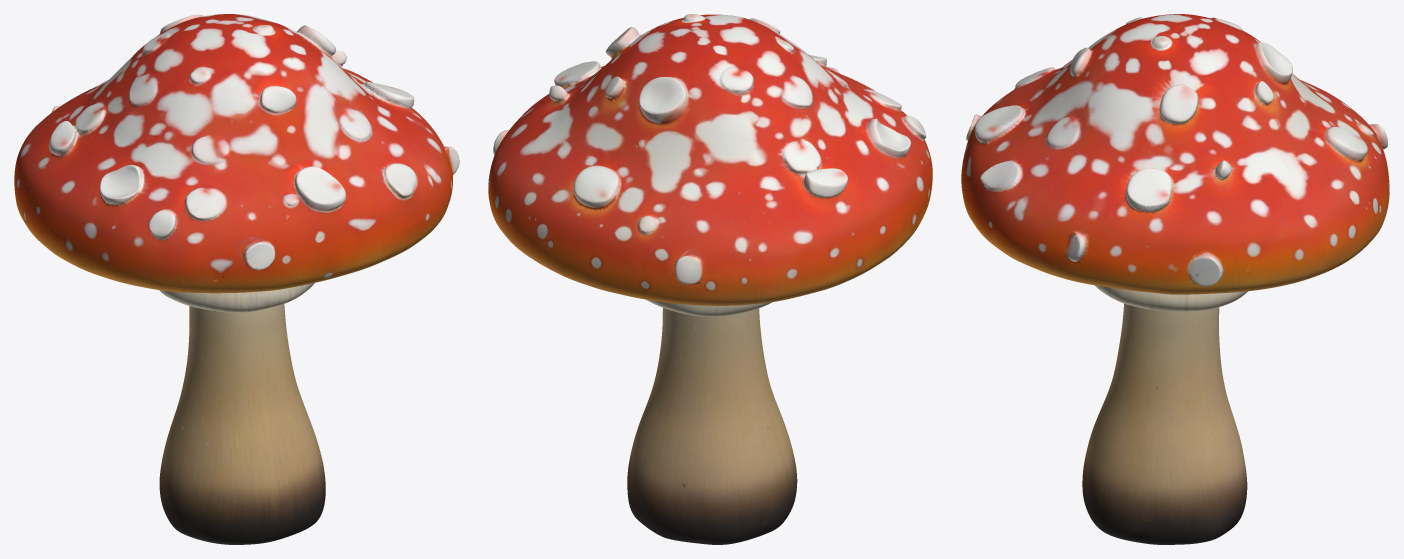
The model's file is Stage_1_MushroomGrowthAnimation.glb.
3 renders of one model, left to right at view 1: azimuth 30°, elevation 25°; view 2: azimuth 150°, elevation 25°; view 3: azimuth 270°, elevation 25°, orthographic.
Parts seen in each view (by area): view 1: Mushroom_stage1; view 2: Mushroom_stage1; view 3: Mushroom_stage1.
Part boxes in pixels (<box>): Mushroom_stage1: <box>14,14,459,544</box>; Mushroom_stage1: <box>488,14,932,544</box>; Mushroom_stage1: <box>961,14,1389,544</box>.
Bounding box in the file's own units: 0.0162 × 0.0201 × 0.0159.
1 material, 1 textured.
